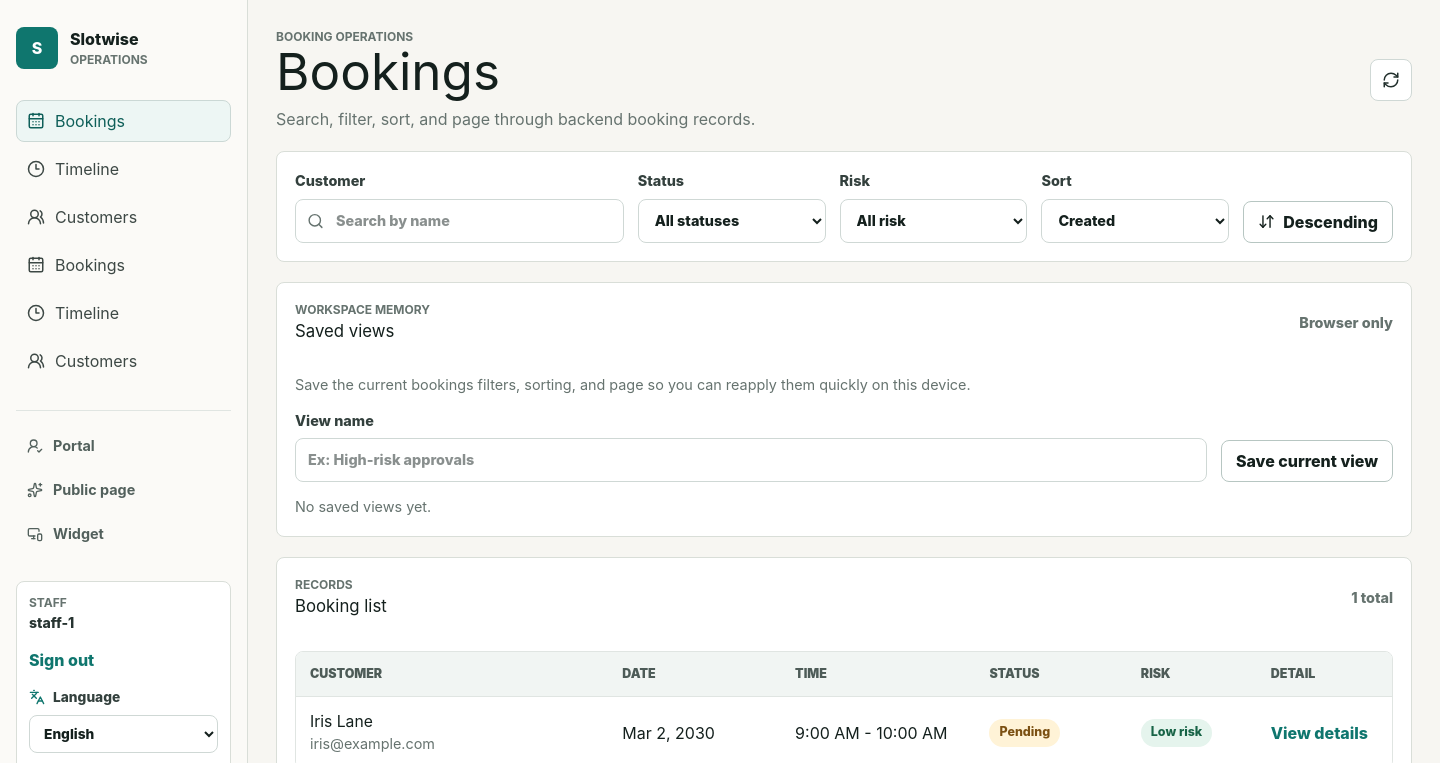
limits booking lifecycle actions by operator role
This screenshot has width=1440, height=763.
Step 1. Click the button "View details" → click(1319, 732), box top-left (1271, 716), bottom-right (1368, 750)
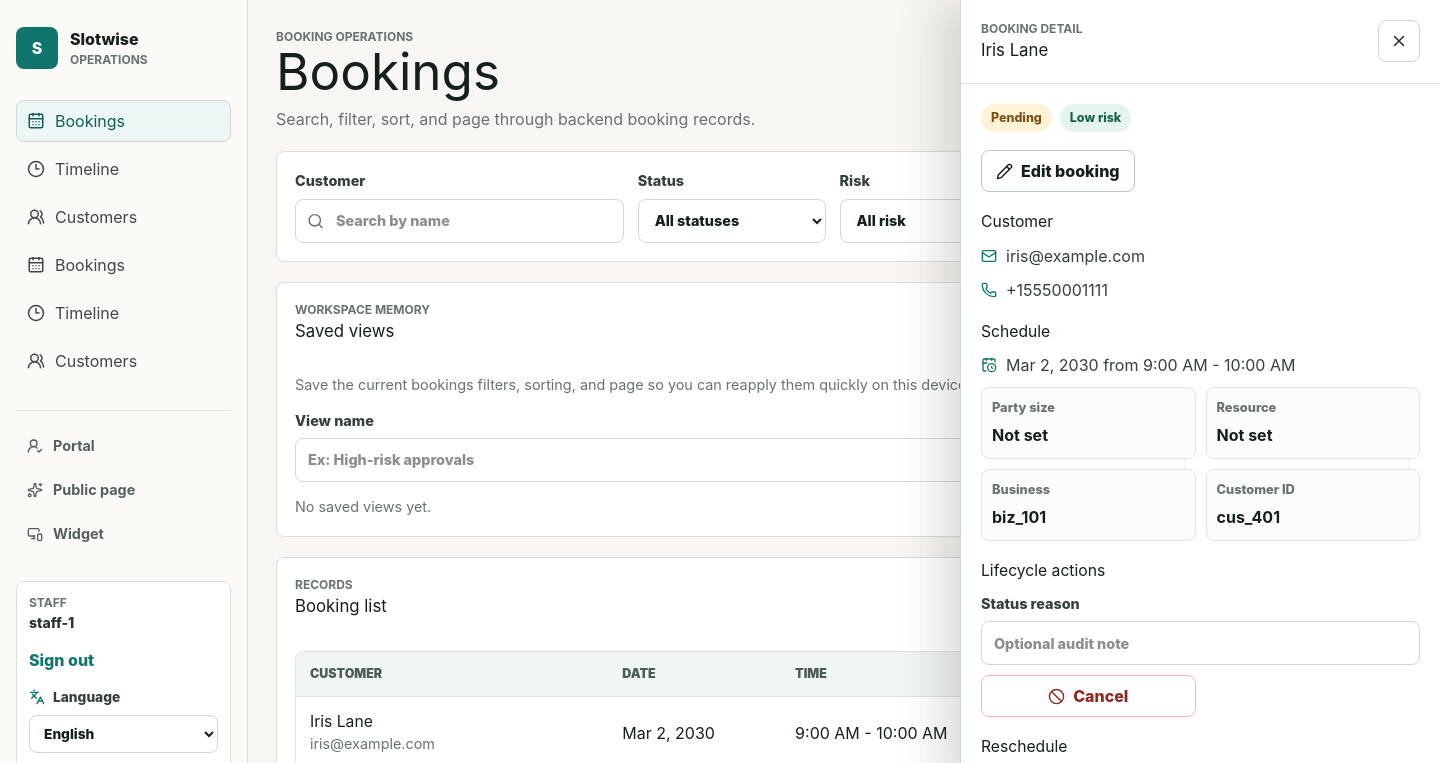
Expected: the button "Cancel" is shown, top-left (981, 675), bottom-right (1196, 717)
